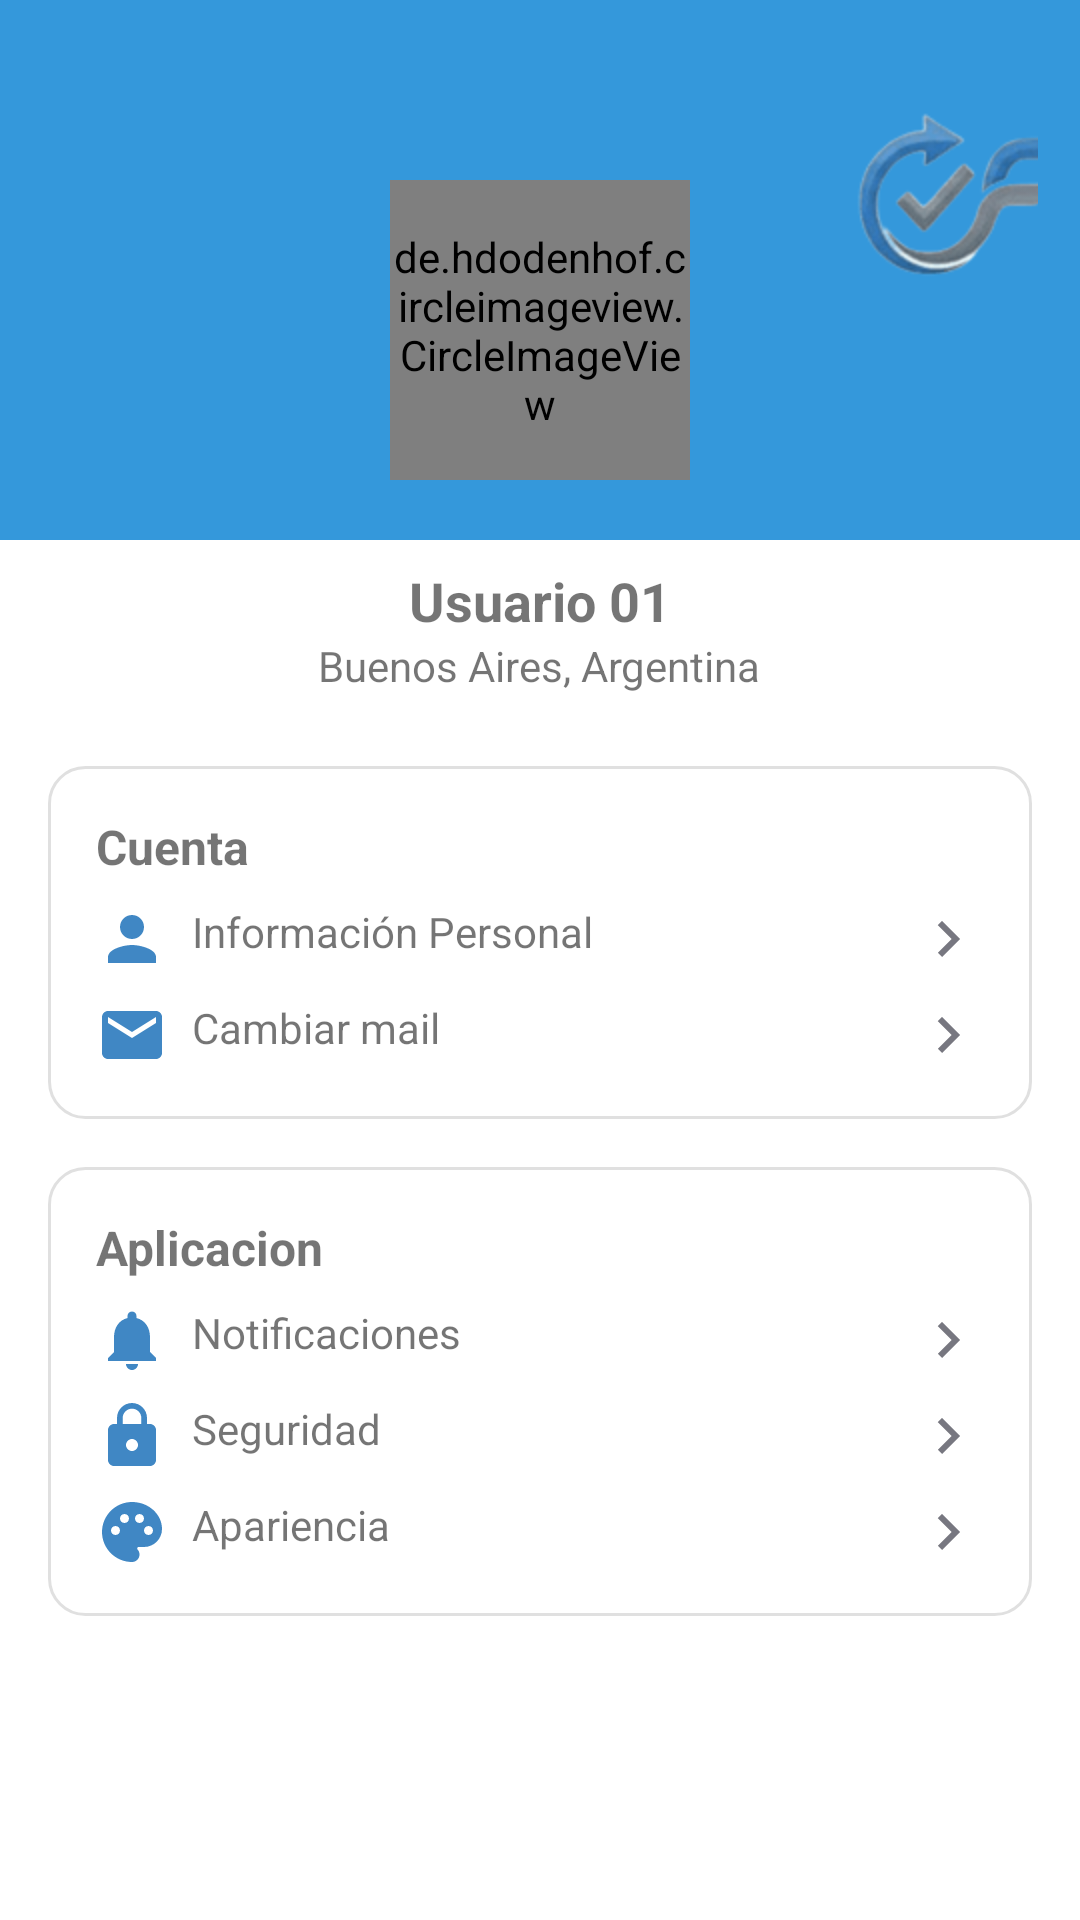

Icons on this 1080px×1920px Android screen, each with the point to tap as (x=x, y=y):
bell: (x=132, y=1340)
lock: (x=132, y=1434)
palette: (x=132, y=1532)
right arrow: (x=949, y=939), (x=949, y=1035), (x=949, y=1340), (x=949, y=1436), (x=949, y=1532)
